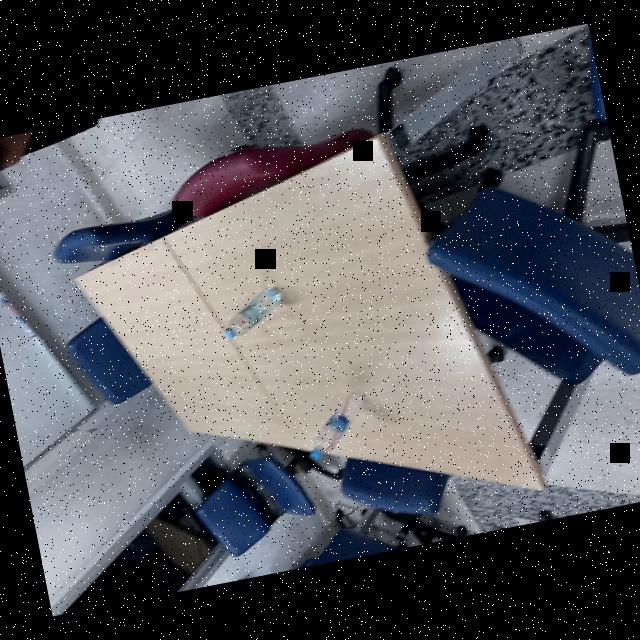plastic_bottle: (298, 390, 382, 462), (215, 283, 292, 342)
plastic_bottle_cap: (308, 449, 322, 464), (221, 326, 236, 338)
straw: (308, 394, 364, 454)
